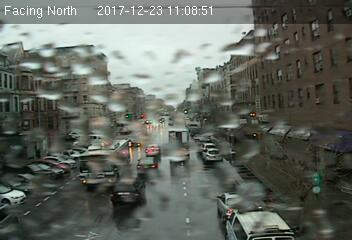bus: (77, 138, 133, 186)
car: (109, 176, 146, 205), (217, 192, 249, 217), (135, 156, 159, 175), (203, 147, 223, 162), (144, 144, 160, 156)
police: (222, 201, 299, 240)
truck: (167, 128, 190, 156)
